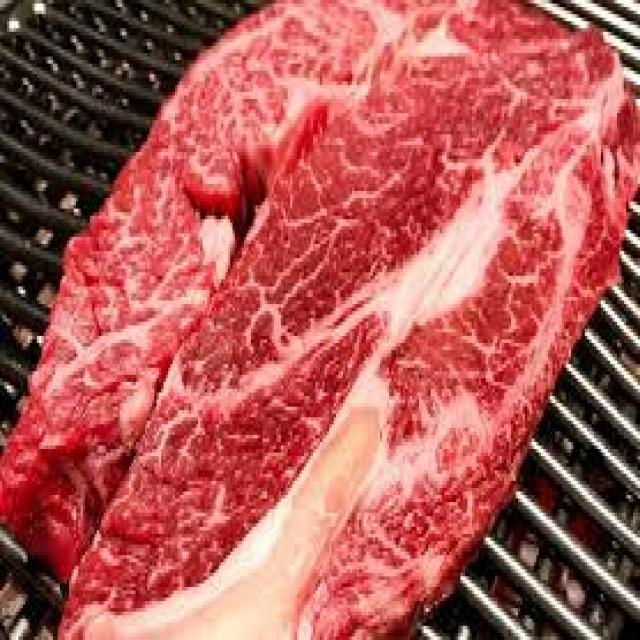beef: (0, 4, 640, 640)
